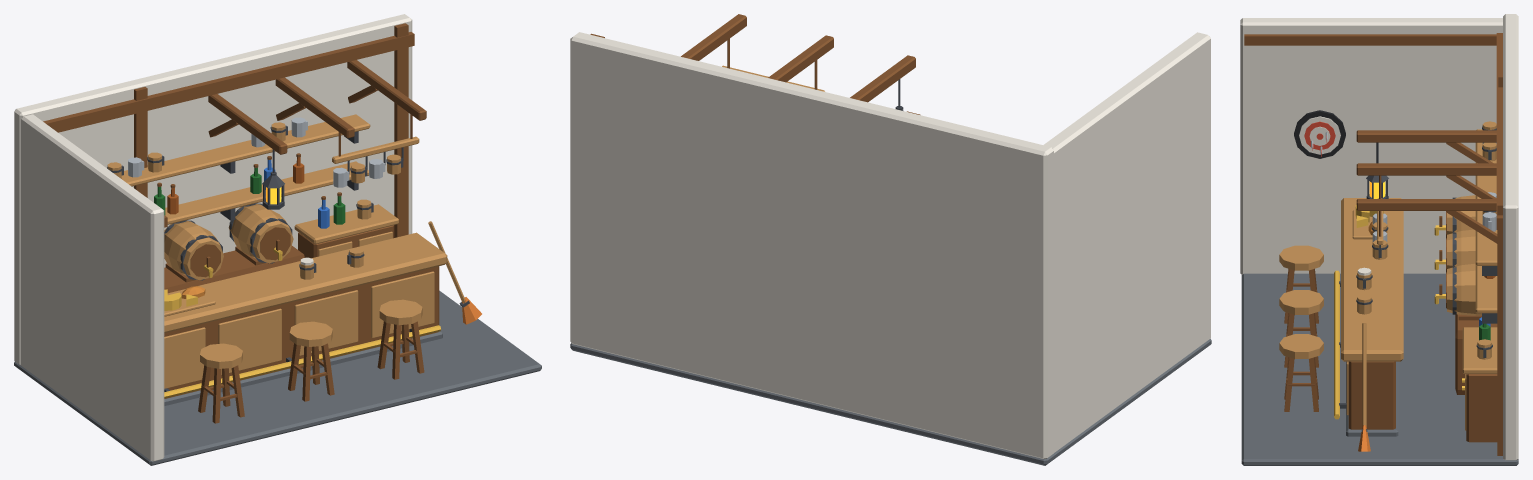
Rendered from tavern-bar-counter.glb.
The picture shows the model from 3 angles, left to right: view 1: azimuth 30°, elevation 25°; view 2: azimuth 150°, elevation 25°; view 3: azimuth 270°, elevation 25°; orthographic projection. The views are drawn at different scales.
Visible parts, largest first — view 1: Wall_End, Wall_Back, Floor, Bar_Top, Wall_Beam, Bar_Body, Shelf_2, Bar_Panel_1, Shelf_1, Wall_Post_1, Bar_Panel_2, Bar_Panel_3 (+21 smaller); view 2: Wall_Back, Wall_End, Floor, CeilingArm_2, CeilingArm_0, CeilingArm_1; view 3: Wall_End, Floor, Bar_Top, Wall_Back, Bar_Body, EndWall_Beam, BackCabinet, CeilingArm_0, CeilingArm_1, CeilingArm_2, Wall_Post_1, Barrel_3 (+23 smaller).
Boxes of the visible parts, x1,y1,x2,y2 form: Wall_End: [21, 114, 164, 461]; Wall_Back: [14, 14, 412, 364]; Floor: [14, 290, 541, 465]; Bar_Top: [164, 232, 447, 332]; Wall_Beam: [43, 32, 414, 132]; Bar_Body: [164, 266, 439, 398]; Shelf_2: [121, 114, 370, 186]; Bar_Panel_1: [218, 308, 281, 374]; Shelf_1: [165, 161, 368, 224]; Wall_Post_1: [394, 23, 408, 237]; Bar_Panel_2: [294, 290, 358, 355]; Bar_Panel_3: [371, 271, 434, 338]; Wall_Back: [570, 32, 1053, 458]; Wall_End: [1043, 32, 1210, 452]; Floor: [570, 339, 1211, 465]; CeilingArm_2: [681, 14, 746, 60]; CeilingArm_0: [850, 55, 915, 102]; CeilingArm_1: [768, 35, 833, 82]; Wall_End: [1240, 18, 1502, 274]; Floor: [1241, 273, 1518, 465]; Bar_Top: [1341, 198, 1403, 361]; Wall_Back: [1503, 14, 1518, 460]; Bar_Body: [1348, 361, 1395, 429]; EndWall_Beam: [1244, 34, 1496, 45]; BackCabinet: [1466, 374, 1497, 442]; CeilingArm_0: [1356, 130, 1496, 142]; CeilingArm_1: [1356, 163, 1496, 175]; CeilingArm_2: [1356, 199, 1496, 210]; Wall_Post_1: [1497, 200, 1502, 455]; Barrel_3: [1447, 263, 1481, 315].
Bounding box in the file's own units: 17.5 × 11 × 10.65.
